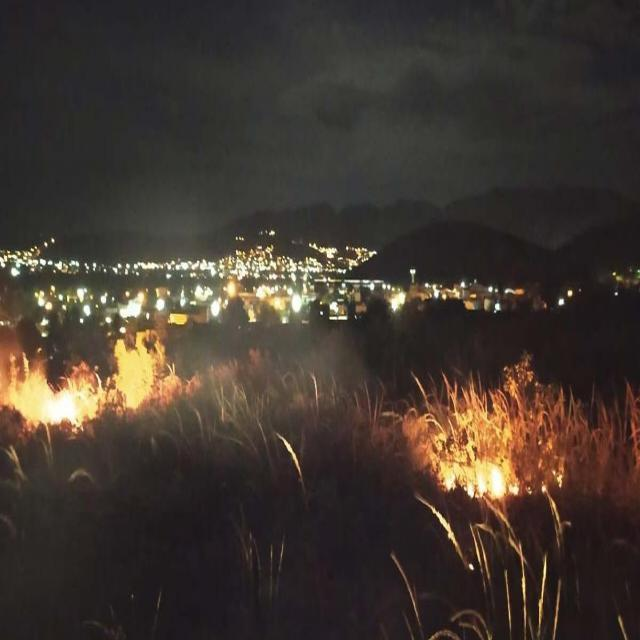Fire: (7, 359, 96, 428), (442, 456, 520, 499)
